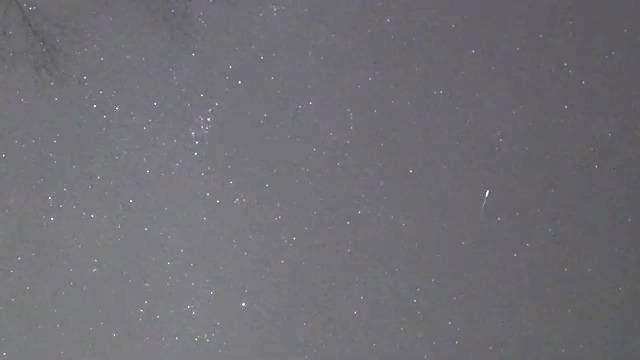meteorite: (472, 184, 500, 214)
